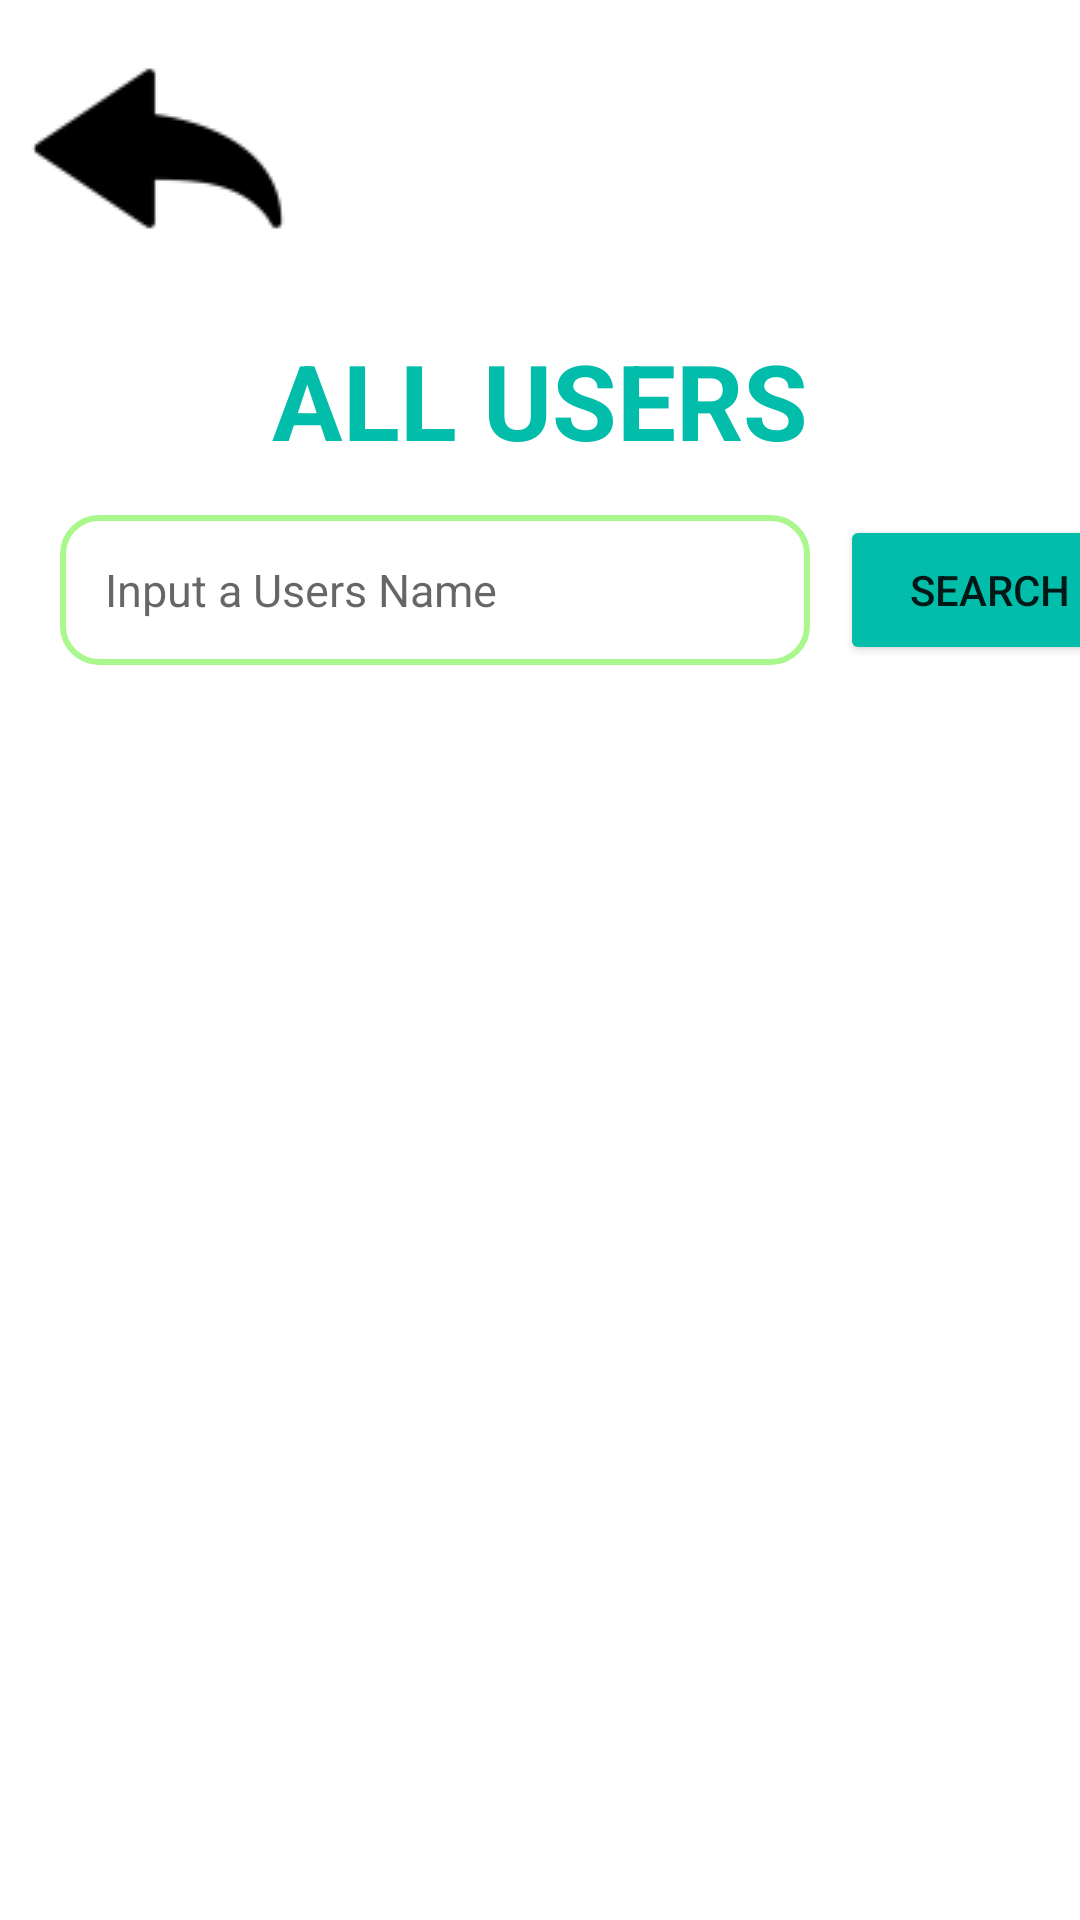

Screen size 1080w x 1920h. Icon name, then its box in pixels as (x1, y1, x2, y2):
back arrow image: (33, 68, 284, 229)
